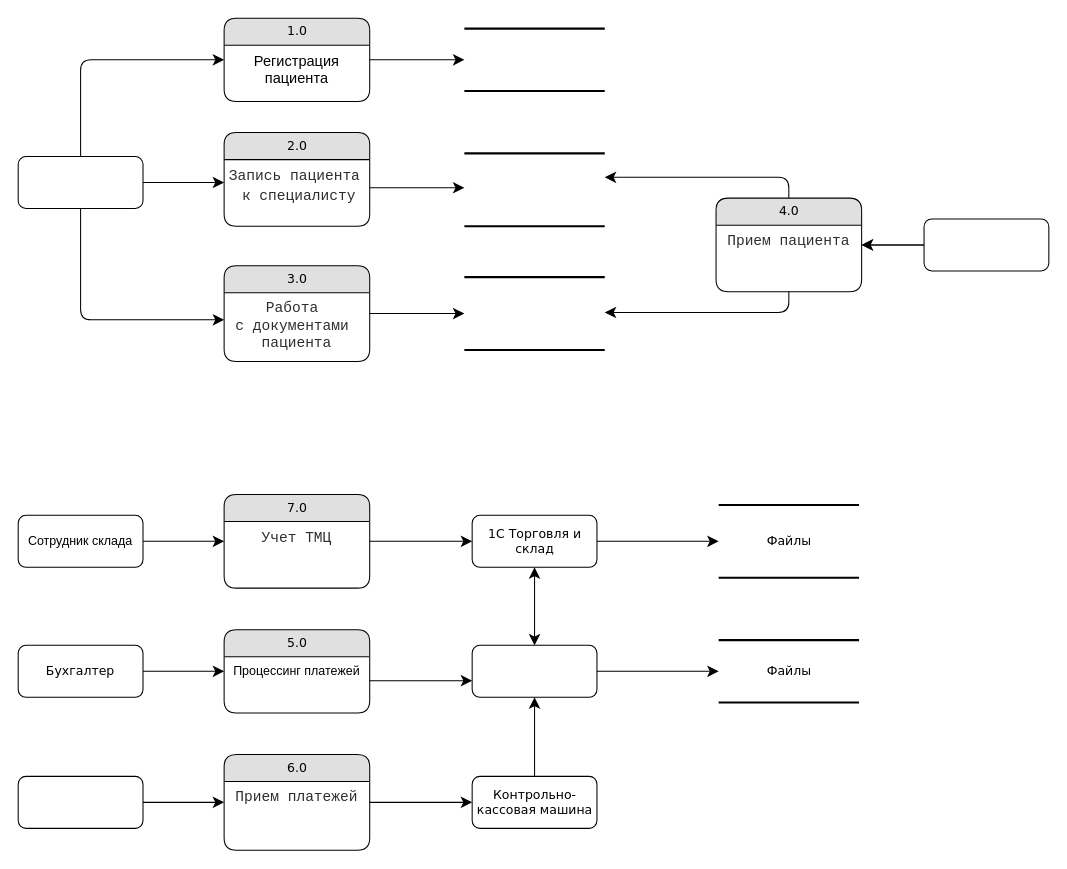
This 1067x869 diagram has some shape labels left out. Here are the shapes that lost their labels. From the top down, the box of each, then its label:
(463, 27, 605, 92): Patients Excel-файл
(17, 155, 143, 209): Администратор
(463, 152, 605, 227): Journal-Doctor-FIO 1 Excel-файл
(923, 218, 1049, 271): Доктор
(463, 276, 605, 350): Pacient1-FIO-BD Folder
(471, 644, 597, 697): 1C Бухгалтерия предприятия
(17, 775, 143, 828): Кассир
